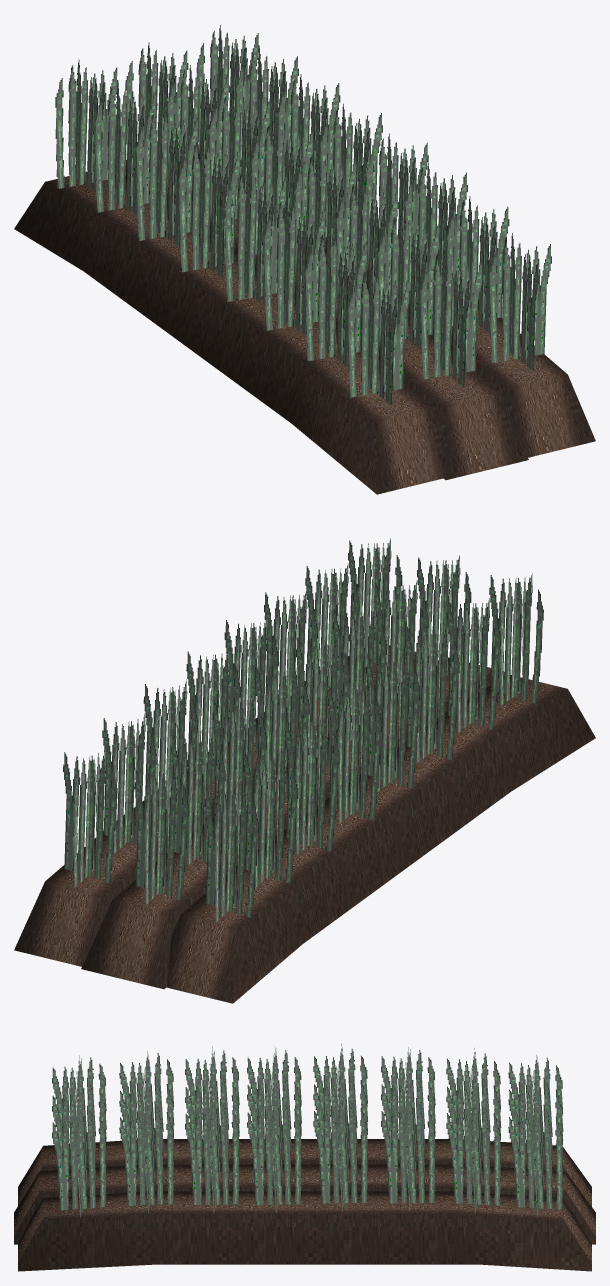
File: Grain.fbx
3 views of the same model, one above another, from view 1: azimuth 30°, elevation 25°; view 2: azimuth 150°, elevation 25°; view 3: azimuth 270°, elevation 25° (orthographic). The views are drawn at different scales.
Visible parts, largest first — view 1: Plane.014; view 2: Plane.014; view 3: Plane.014.
Part boxes in pixels (box(x1,y1,x2,y2)): Plane.014: box(14, 25, 595, 494); Plane.014: box(14, 538, 595, 1003); Plane.014: box(14, 1043, 595, 1271).
Size of the model in its own units: 311 by 267 by 906.
